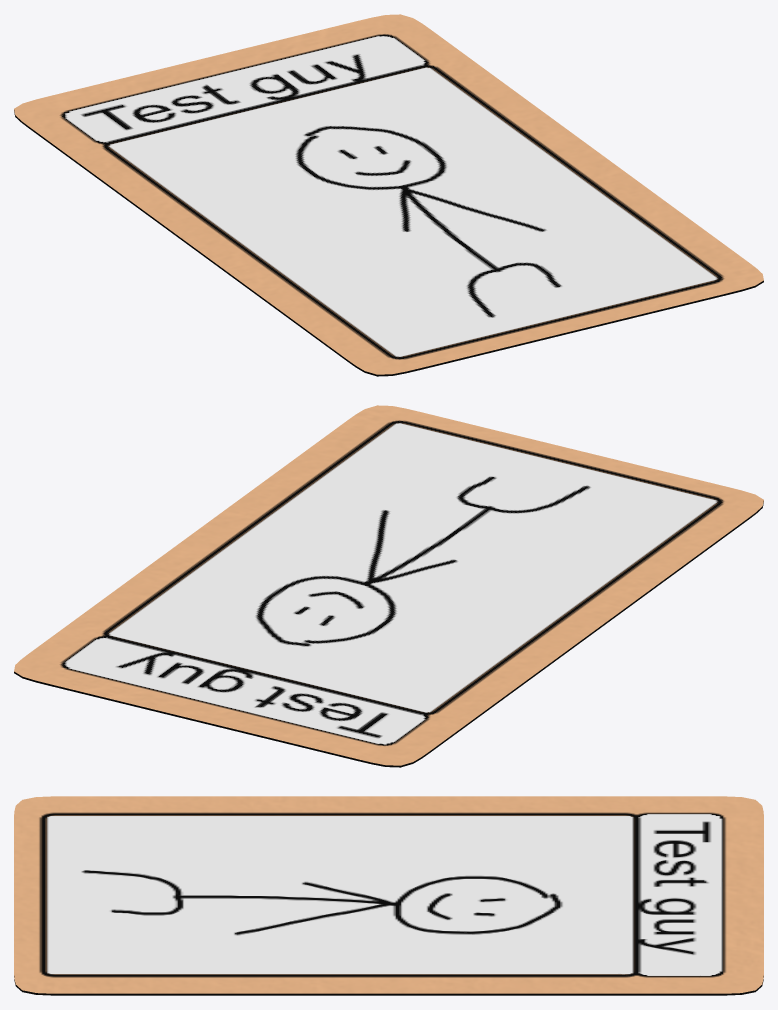
File: CardTest.glb
The picture shows the model from 3 angles, top to bottom: view 1: azimuth 30°, elevation 25°; view 2: azimuth 150°, elevation 25°; view 3: azimuth 270°, elevation 25°; orthographic projection.
Parts seen in each view (by area): view 1: Plane; view 2: Plane; view 3: Plane.
Part boxes in pixels (left/top/right/bottom): Plane: left=14, top=14, right=763, bottom=376; Plane: left=14, top=405, right=763, bottom=767; Plane: left=14, top=796, right=763, bottom=995.
Bounding box in the file's own units: 0.056 × 0.00024 × 0.0899.
Materials: 3 (2 with a texture image).
